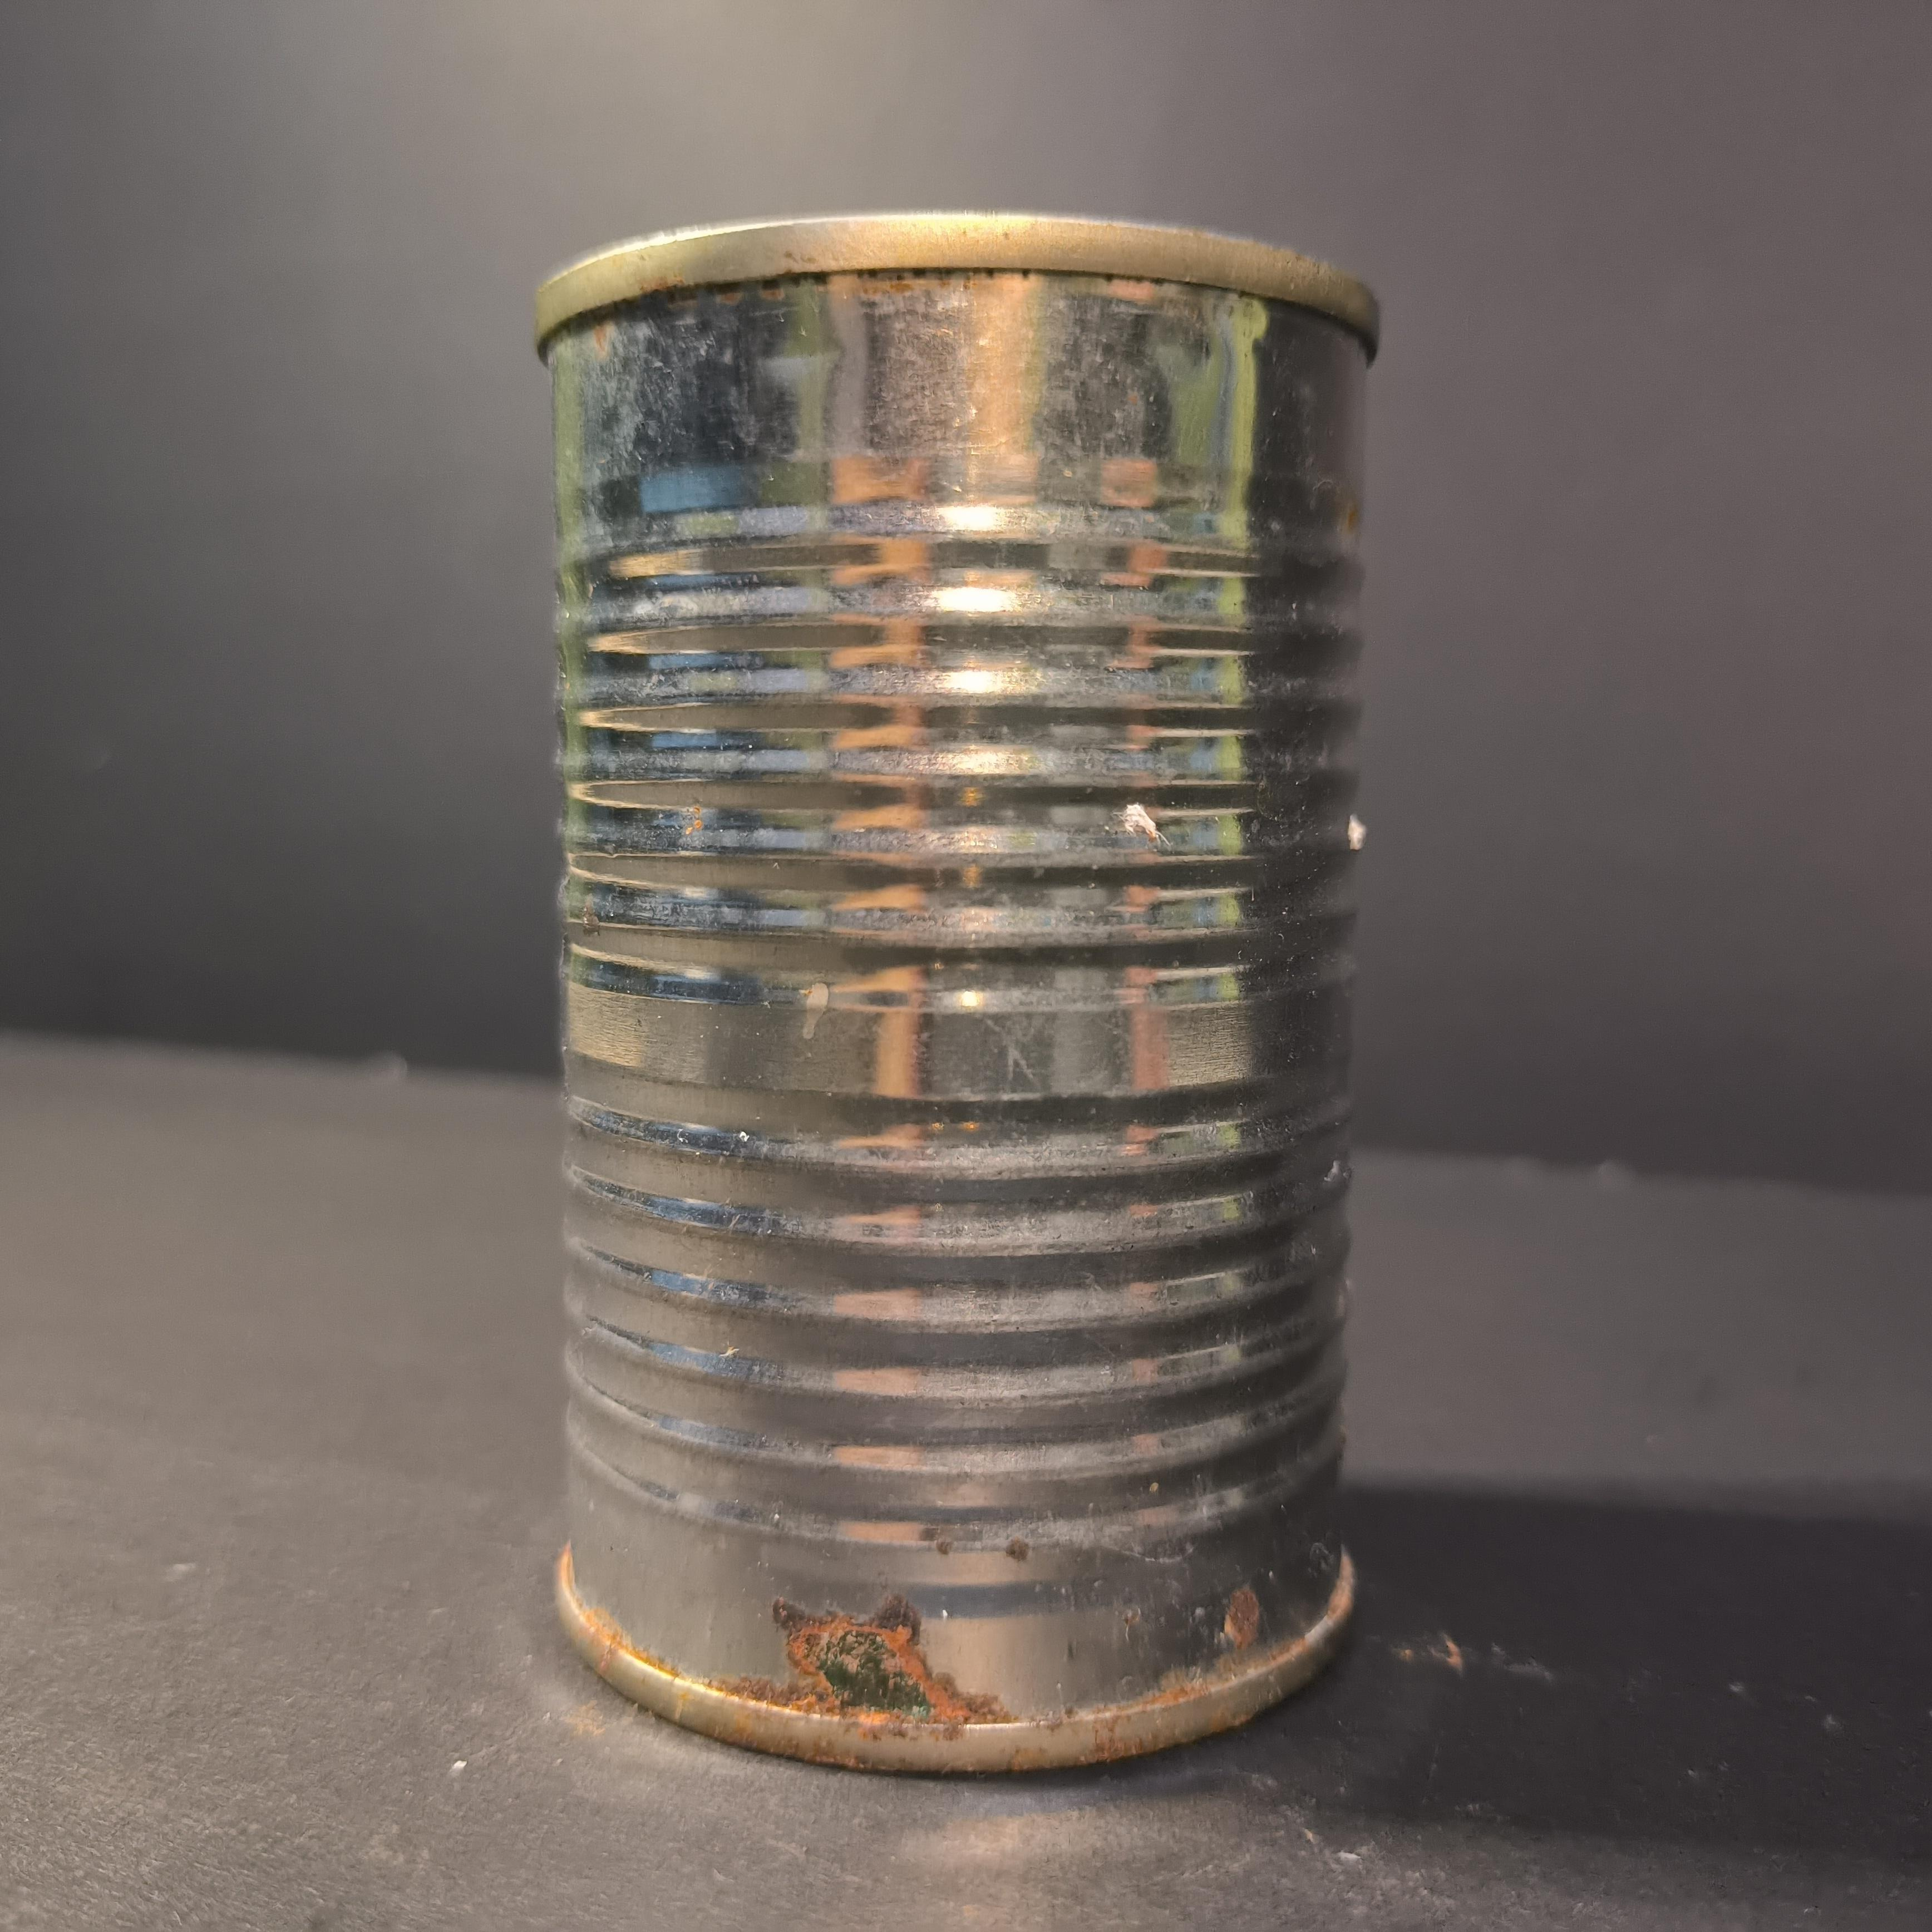Rusted: (511, 193, 1405, 1789)
